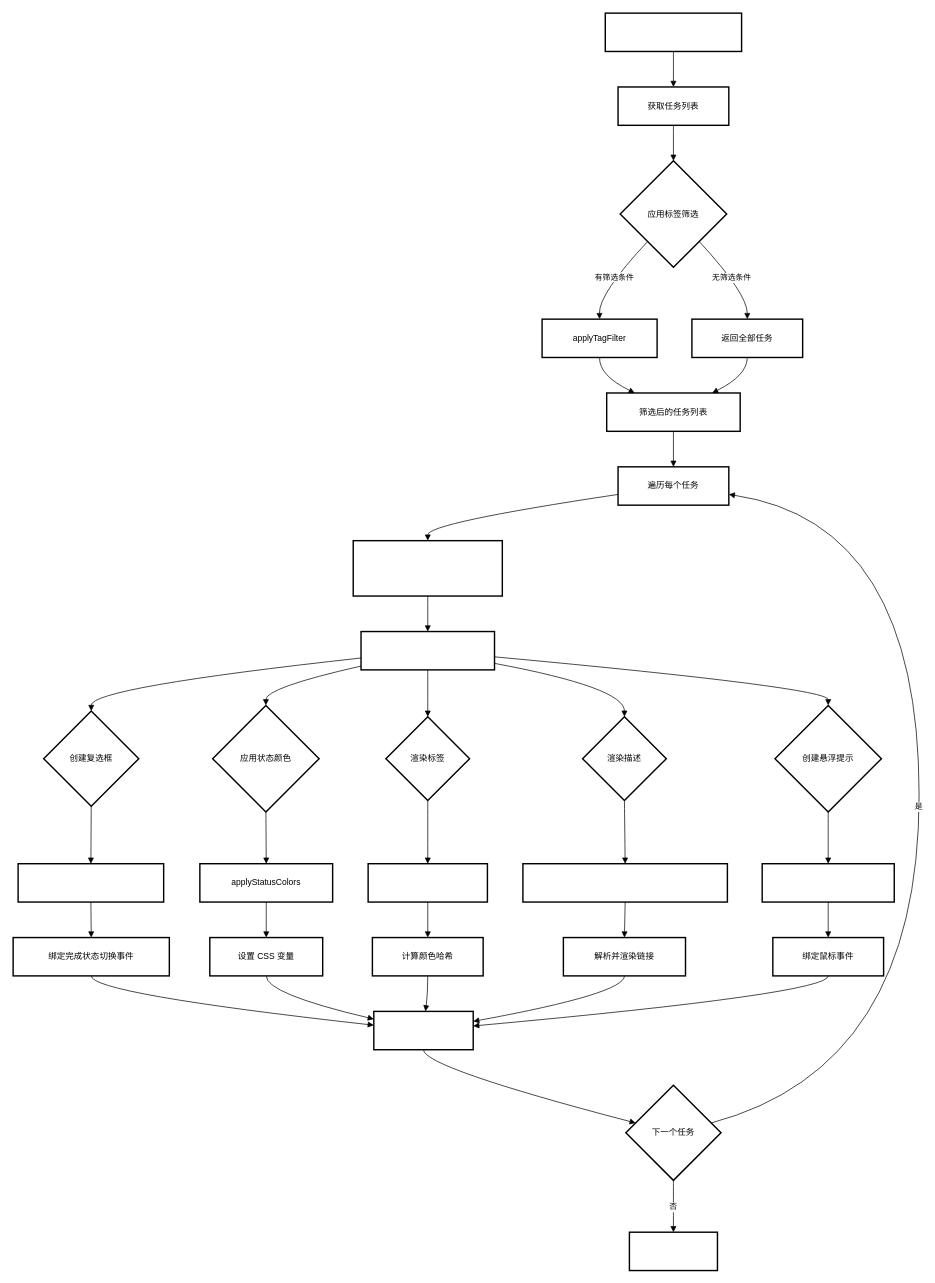
This 935x1283 diagram has some shape labels left out. Each missing label, with the box of its shape:
cleanTaskDescription 清理元数据: (352, 540, 503, 596)
createTaskCheckbox: (17, 863, 164, 902)
createTaskTooltip: (761, 863, 895, 902)
renderTaskDescriptionWithLinks: (522, 863, 728, 902)
renderTaskTags: (367, 863, 488, 902)
创建任务卡片元素: (360, 630, 495, 670)
子视图调用 render: (604, 12, 742, 52)
添加到容器: (373, 1010, 474, 1050)
渲染完成: (628, 1231, 718, 1271)
